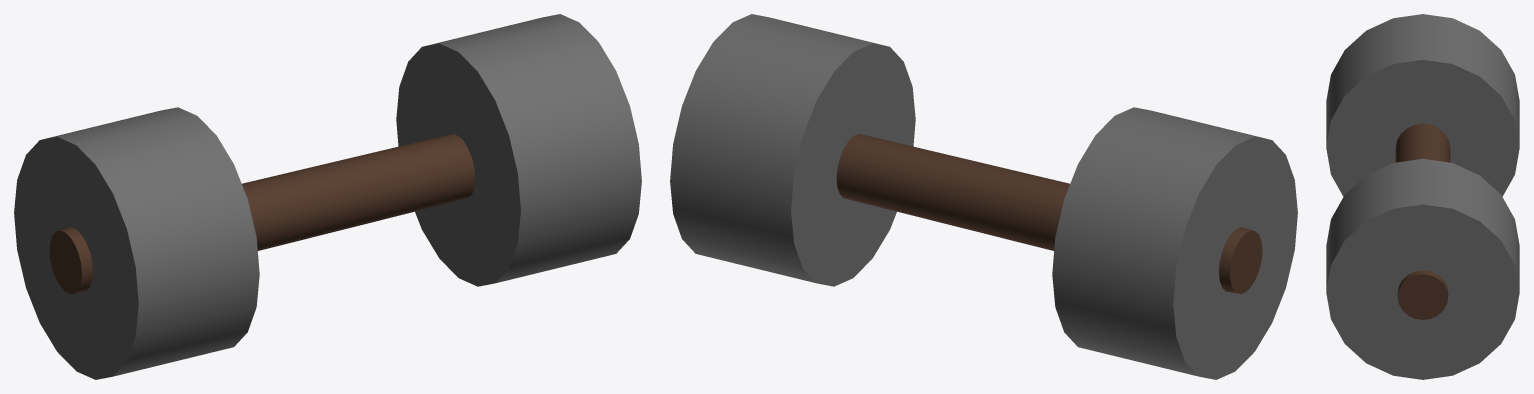
File: weight.fbx
3 renders of one model, left to right at view 1: azimuth 30°, elevation 25°; view 2: azimuth 150°, elevation 25°; view 3: azimuth 270°, elevation 25°, orthographic. The views are drawn at different scales.
Visible parts, largest first — view 1: pasted__pasted__pCylinder5; view 2: pasted__pasted__pCylinder5; view 3: pasted__pasted__pCylinder5.
Boxes of the visible parts, bbox=[...] form: pasted__pasted__pCylinder5: bbox=[14, 14, 641, 379]; pasted__pasted__pCylinder5: bbox=[670, 14, 1297, 379]; pasted__pasted__pCylinder5: bbox=[1326, 14, 1519, 379].
Bounding box in the file's own units: 8.66 × 3.57 × 3.57.
